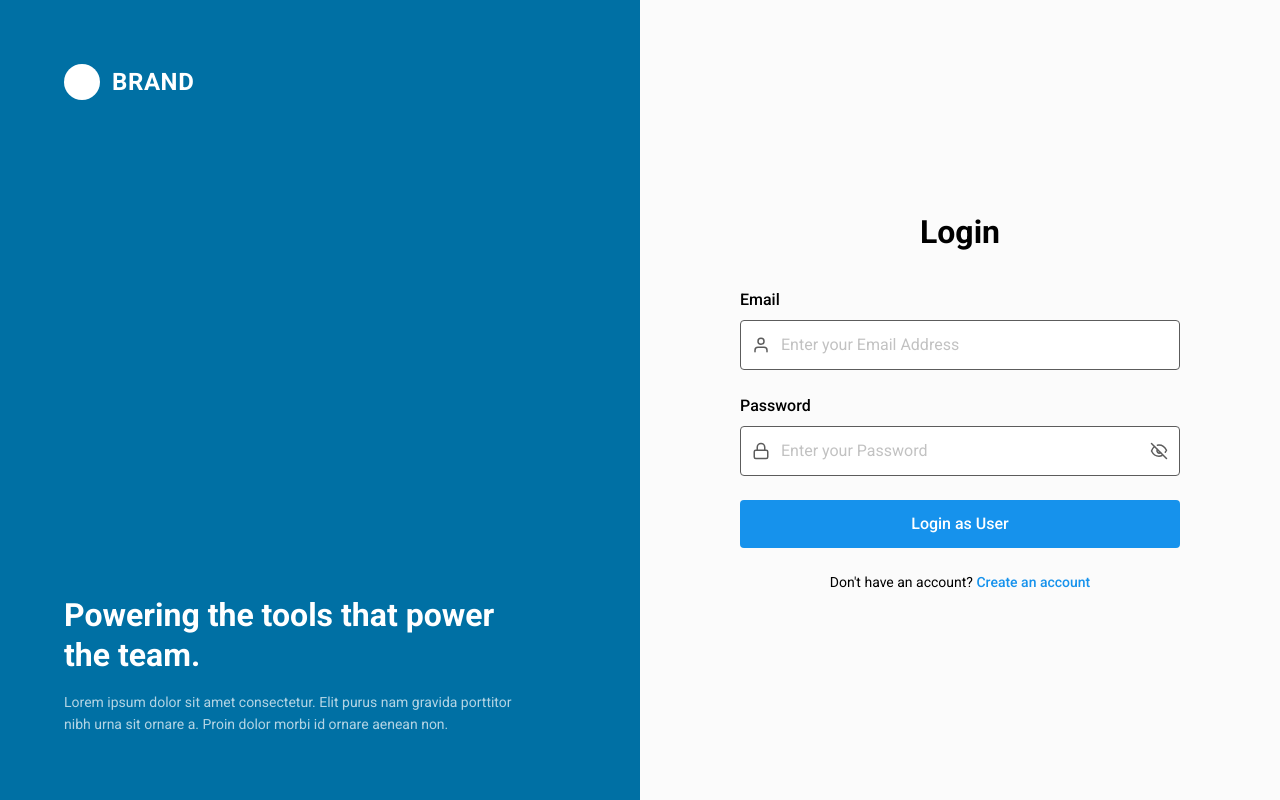
Test: LoginPage › surfaces a backend error message via an alert
Step 1. Type "user@example.com" into the field labelled "Email" → point(960, 345), box [740,320,1180,370]
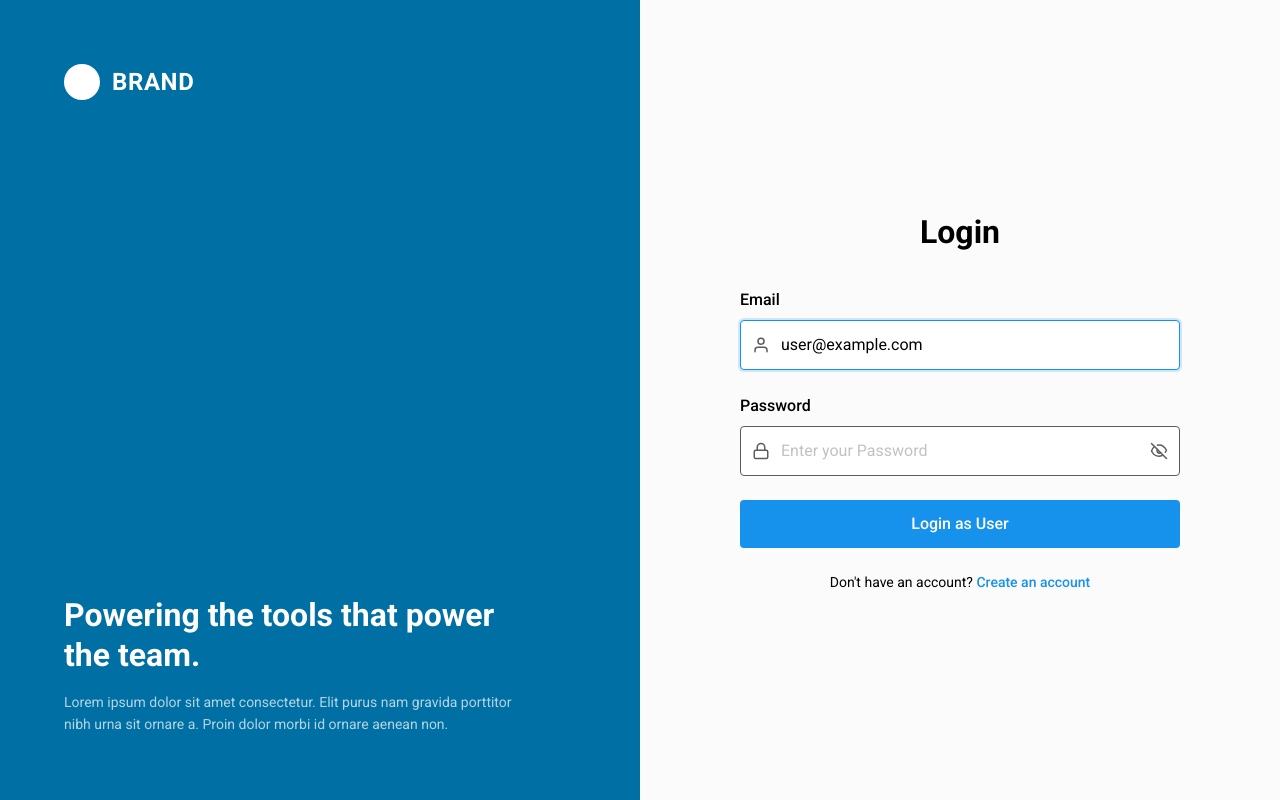
Step 2. Type "wrong" into the password field labelled "Password" → point(960, 451), box [740,426,1180,476]
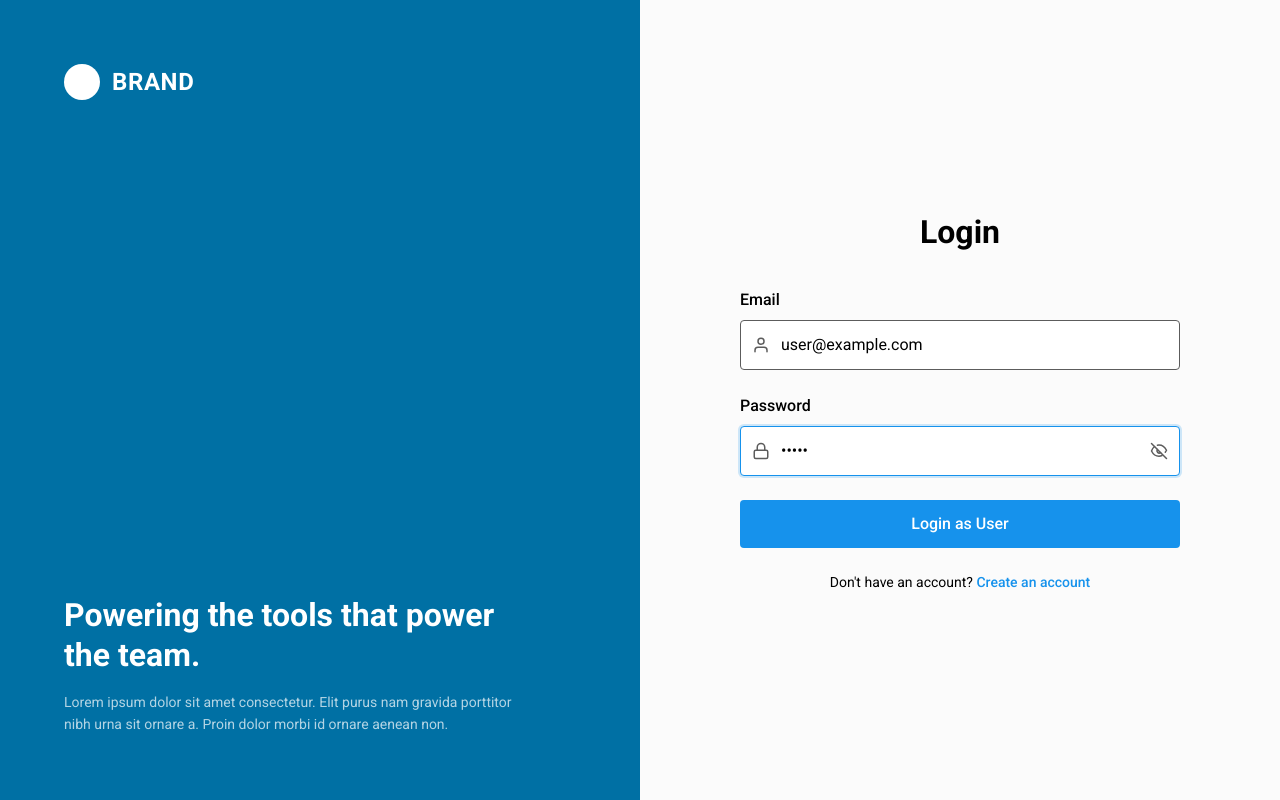
Step 3. Click the button "Login as User" → point(960, 524), box [740,500,1180,548]
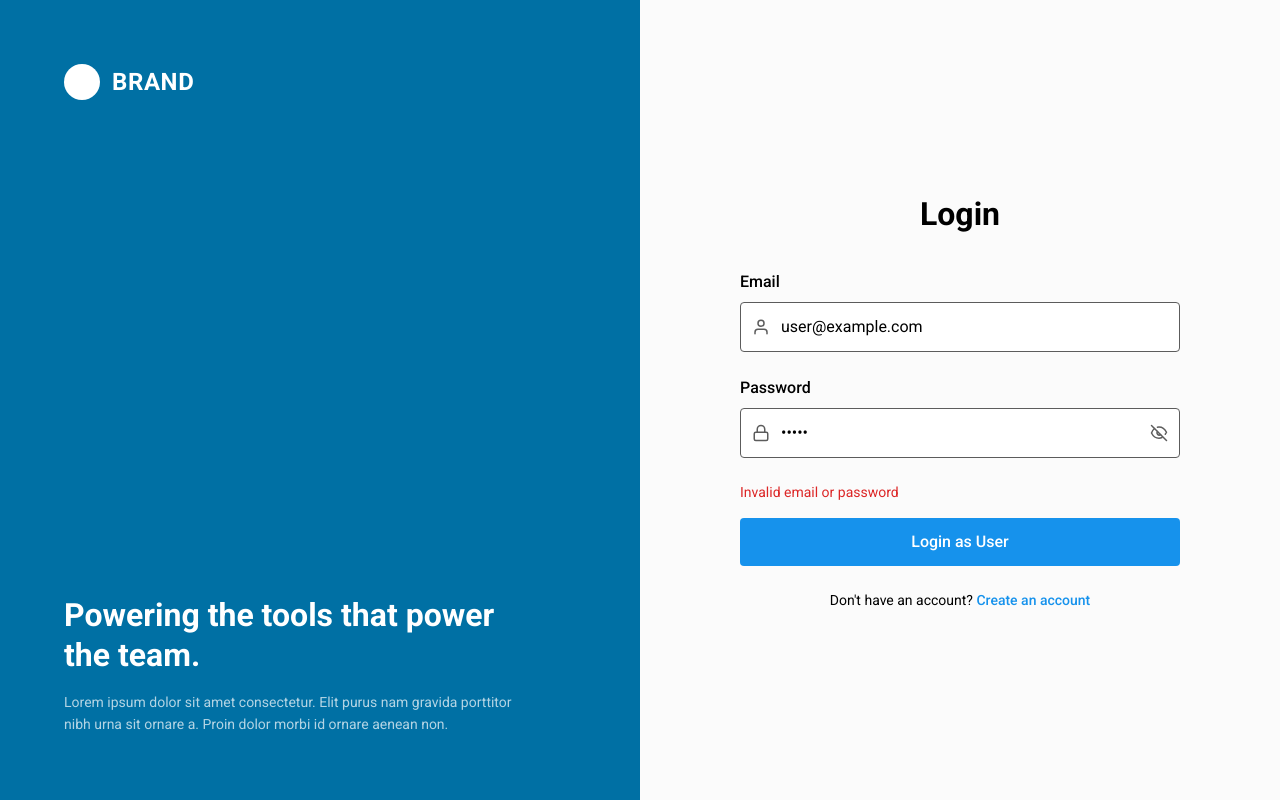
expect the message reads "Invalid email or password": met, box [740,484,899,500]
